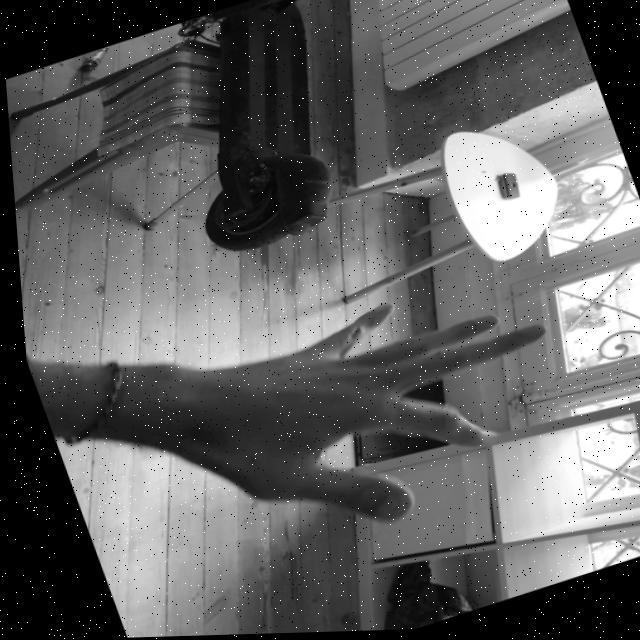no-gloves: (170, 258, 594, 572)
